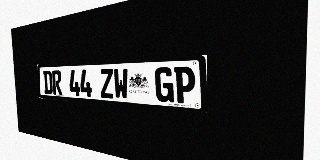4: (79, 69, 92, 97), (69, 70, 80, 96)
D: (43, 70, 53, 94)
G: (155, 67, 174, 103)
P: (174, 66, 195, 104)
R: (52, 70, 62, 95)
W: (113, 68, 129, 100)
Z: (100, 69, 114, 99)
